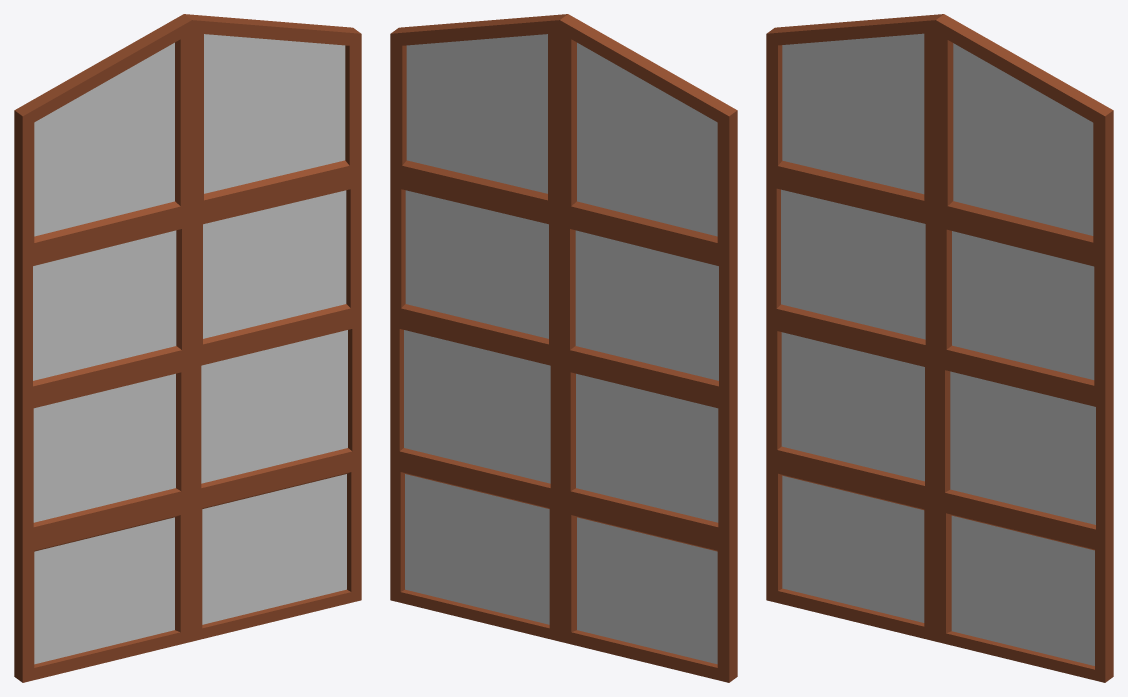
File: Window.fbx
3 views of the same model, side by side, from view 1: azimuth 30°, elevation 25°; view 2: azimuth 150°, elevation 25°; view 3: azimuth 330°, elevation 25° (orthographic).
Parts seen in each view (by area): view 1: Window; view 2: Window; view 3: Window.
Part boxes in pixels (<box>): Window: <box>14,14,361,682</box>; Window: <box>390,14,737,682</box>; Window: <box>766,14,1113,682</box>.
Bounding box in the file's own units: 284 × 498 × 12.11.
